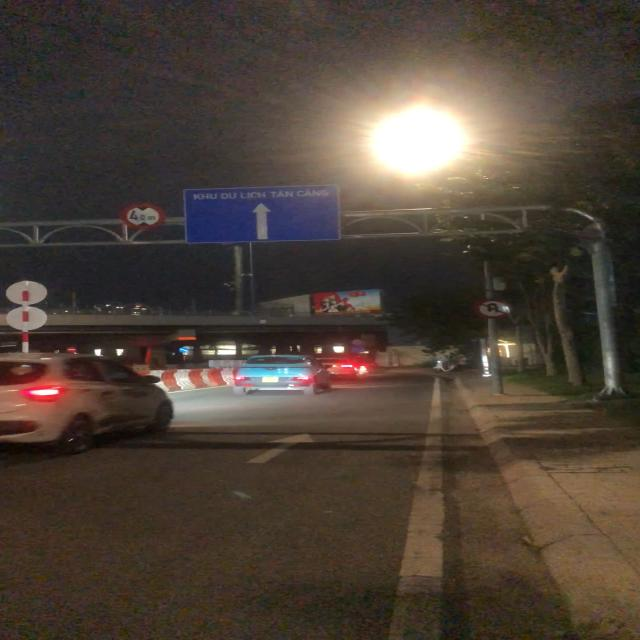Bien bao cam quay dau xe: (471, 297, 513, 319)
Bien bao han che chieu cao: (119, 202, 163, 230)
